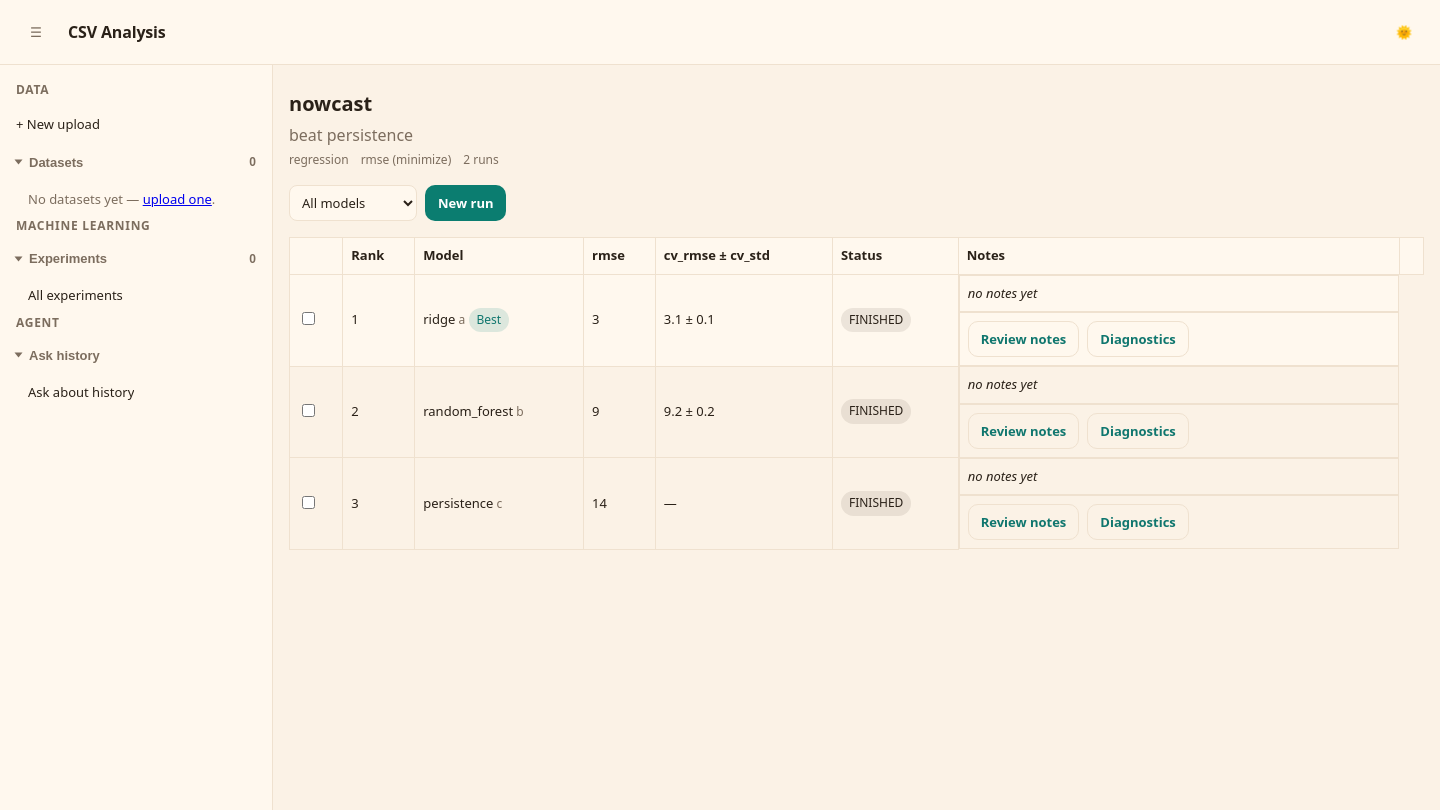
Test: choosing a model hides the other models' runs
Select "persistence" in the dropdown named "Model type" at point(353, 203), box 289,185 -> 417,221
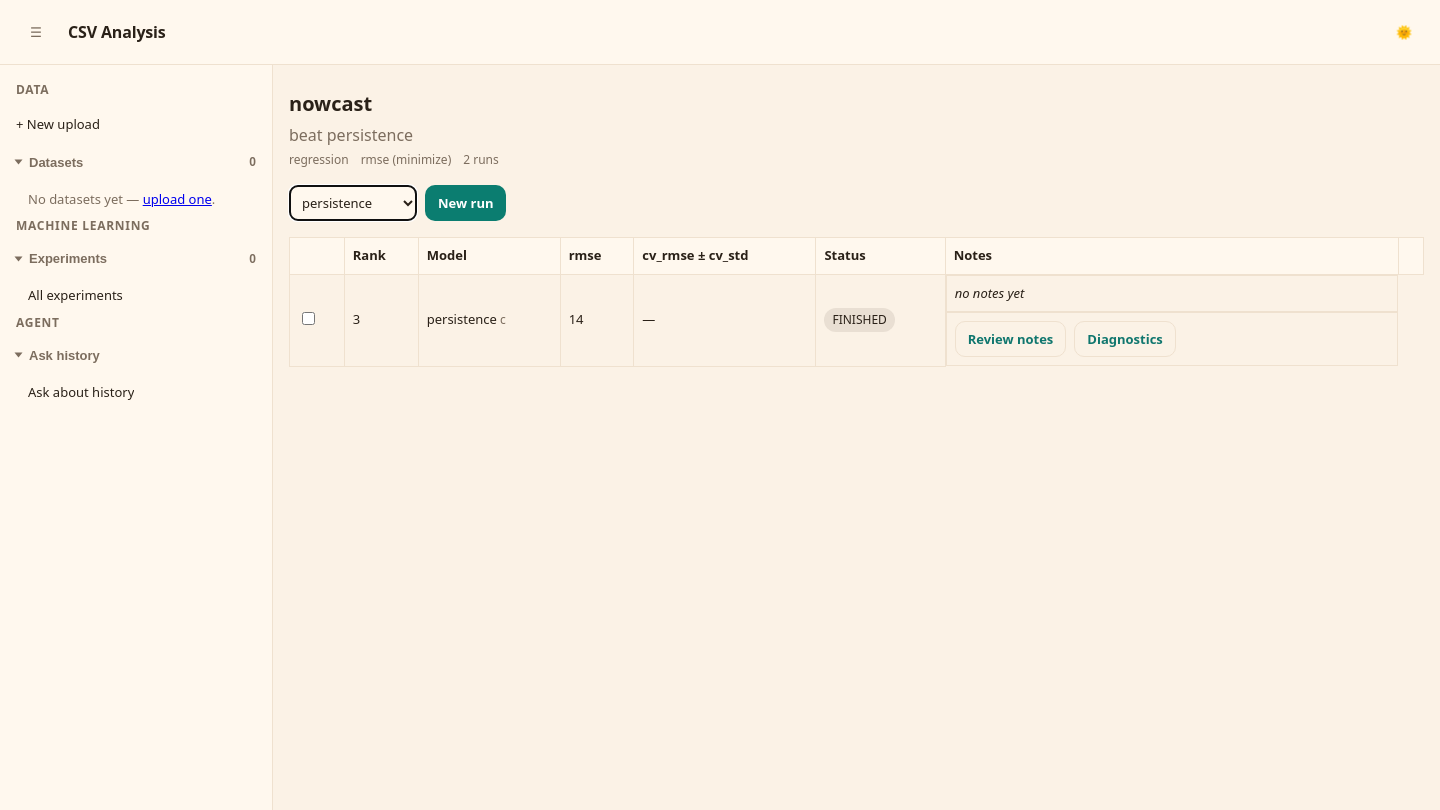
Expected: the text "persistence" is shown, 427,310 -> 497,328
Now the text "ridge" is gone
